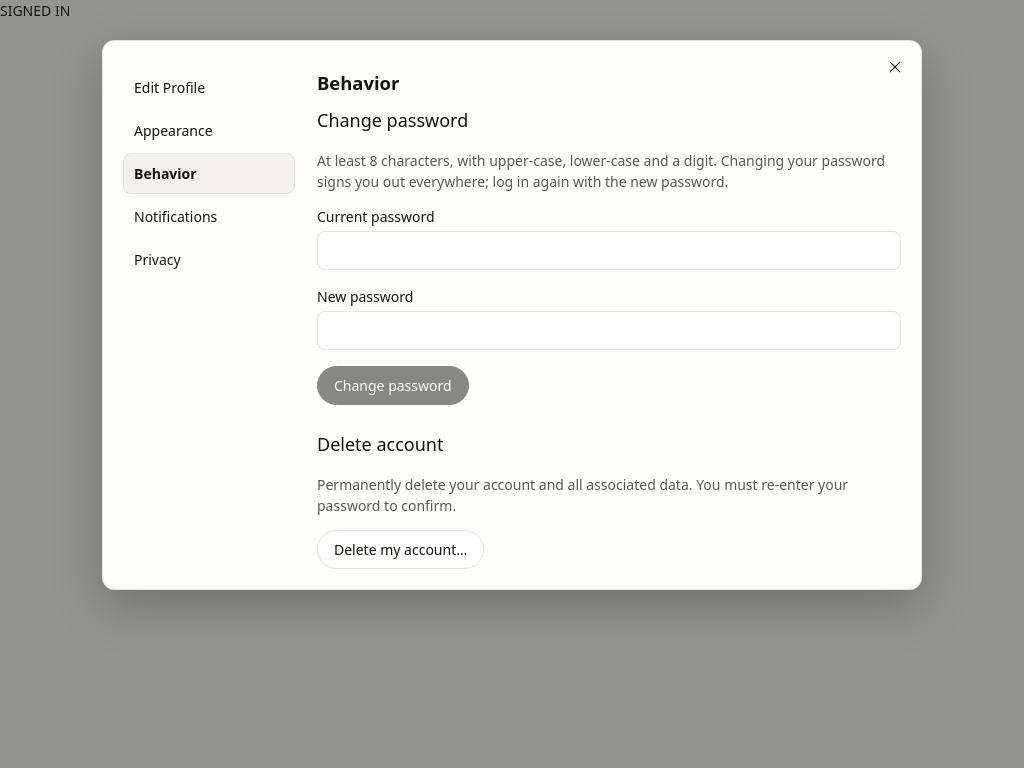
it: Fix 1 — account deletion signs the client out › clears auth state and navigates to /login on delete success
Expected: the text "SIGNED IN" is shown, [0,1,70,20]
Click the button "Delete my account…" at (401, 550), box [317,530,484,569]
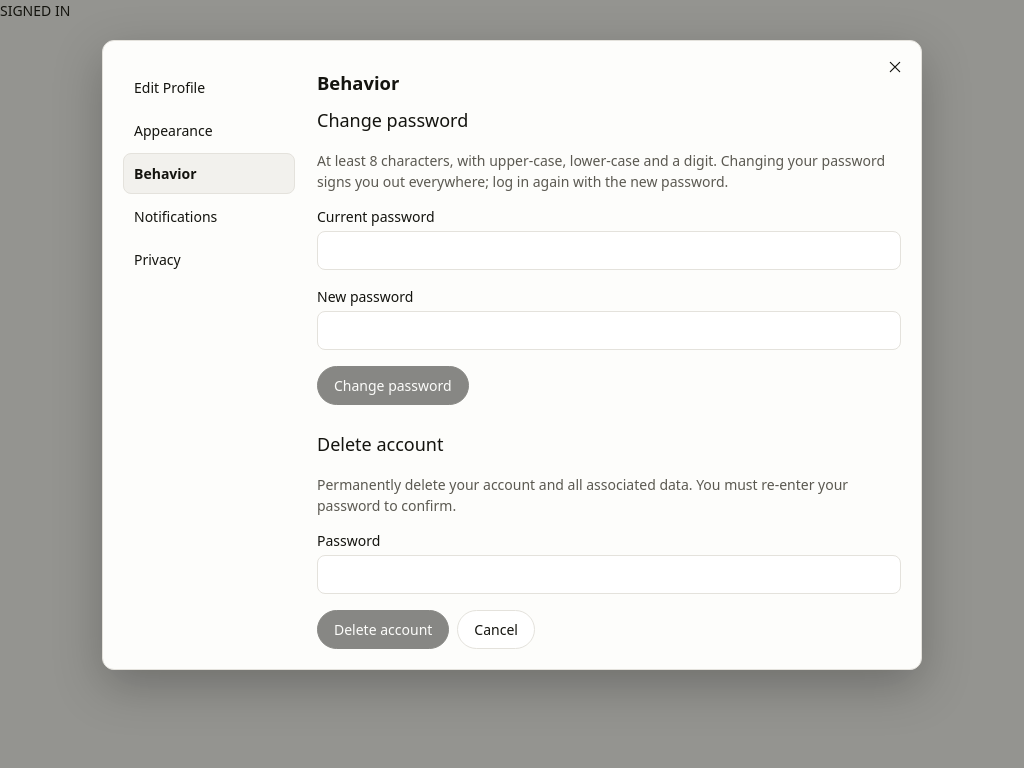
Type "Password1" into the password field labelled "Password" at (609, 575), box [317,555,901,594]
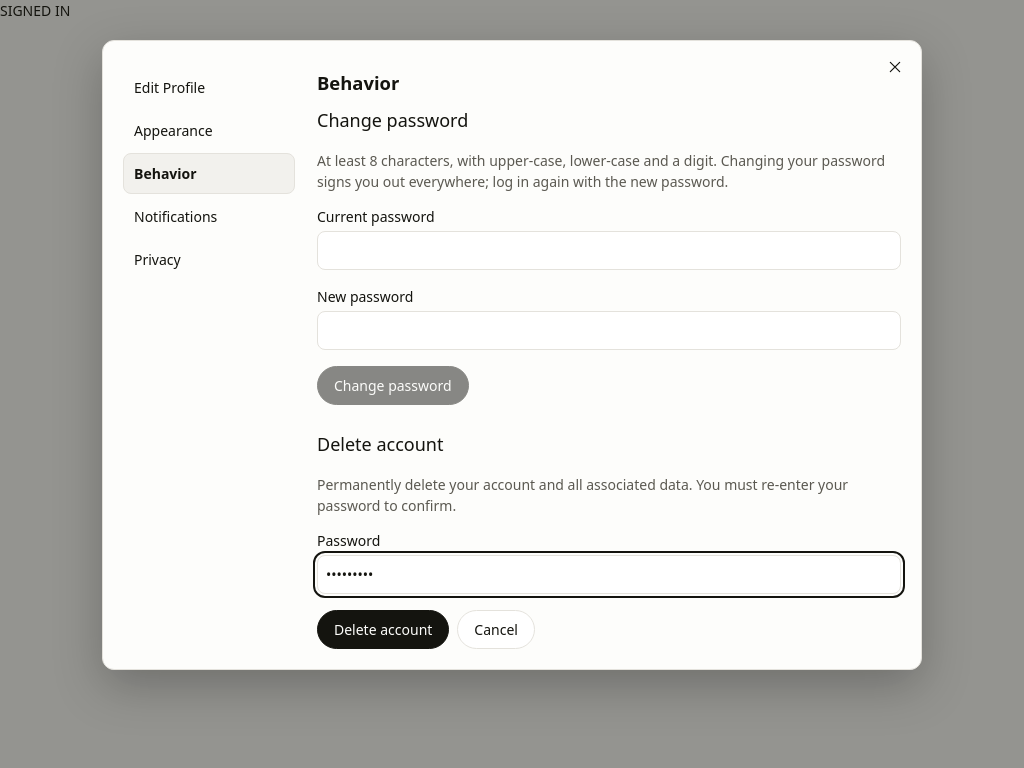
Click the button "Delete account" at (383, 630), box [317,610,449,649]
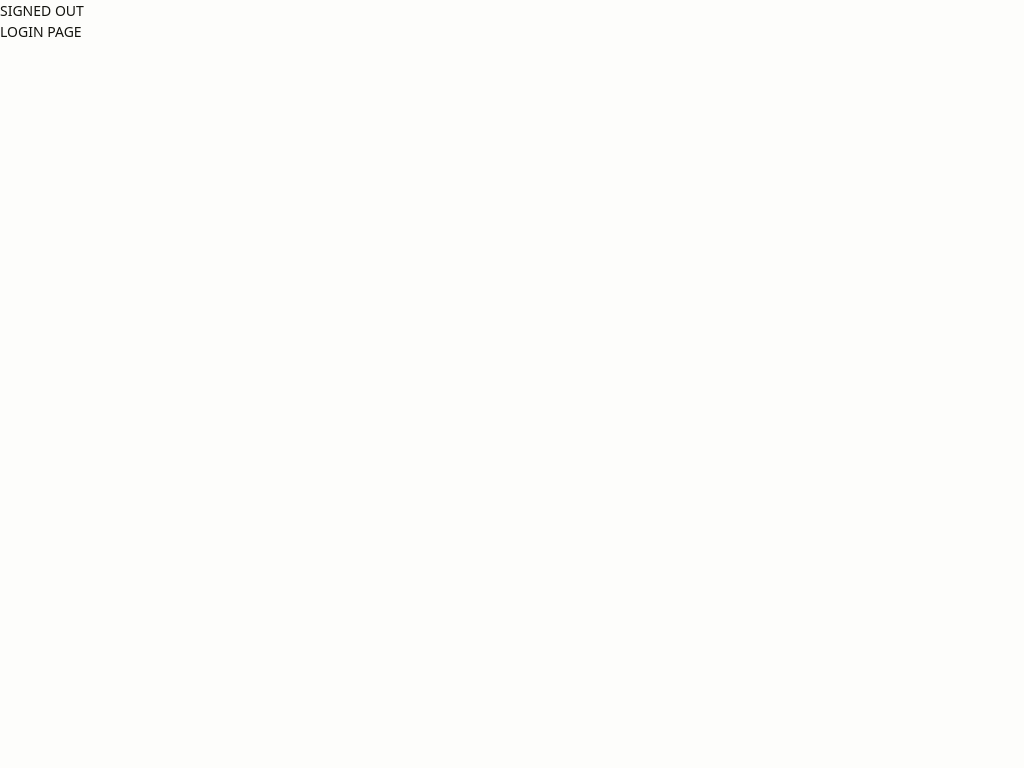
Expected: the text "LOGIN PAGE" is shown, [0,22,82,41]
Expected: the text "SIGNED OUT" is shown, [0,1,84,20]
